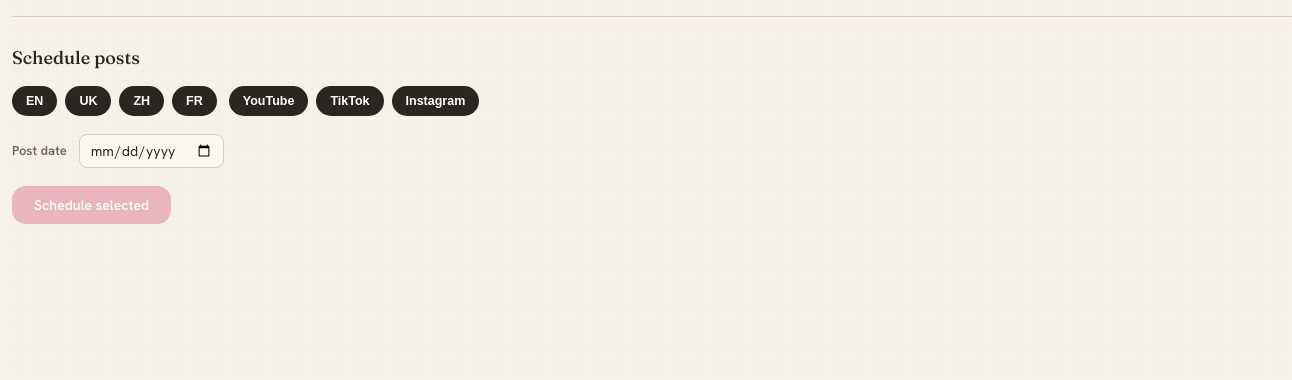
Test case: EpisodeScheduler › slot preview renders audience and pacific times
Type "2025-07-04" into the date field labelled "Post date" at (151, 151), box [79,134,224,168]
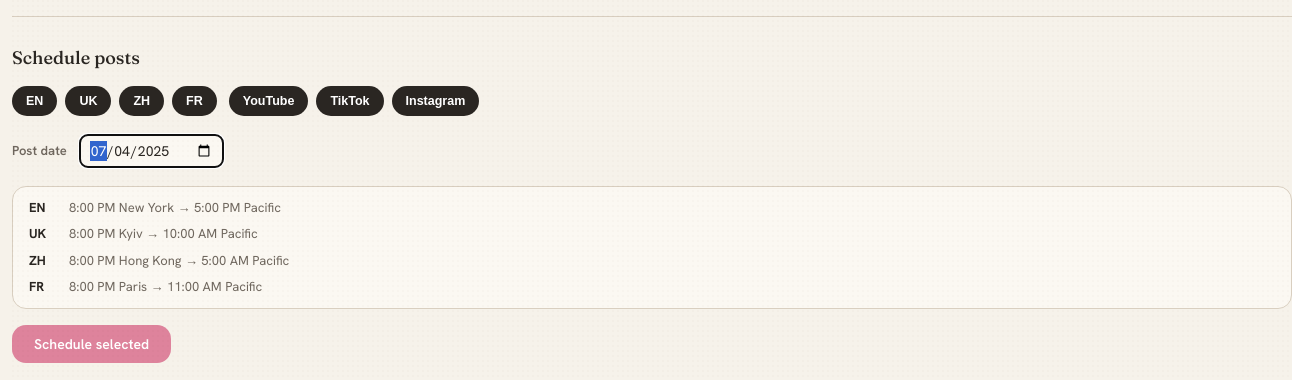
Expected: the text "8:00 PM New York → 5:00 PM Pacific" is shown, [69,199,281,217]
